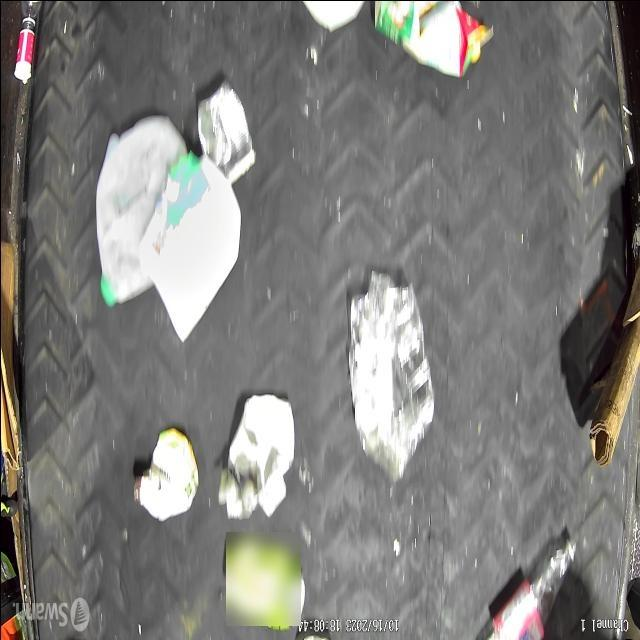milk_jug: (96, 125, 180, 310)
plastic_bottle: (484, 538, 576, 640)
